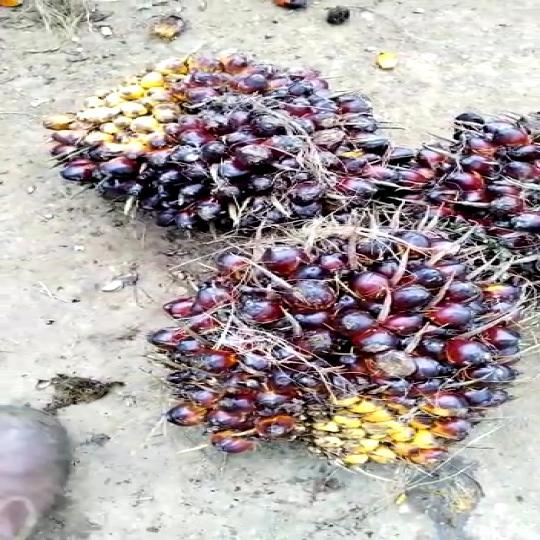kurang masak: (144, 223, 528, 476), (38, 46, 395, 228), (409, 100, 540, 268)
